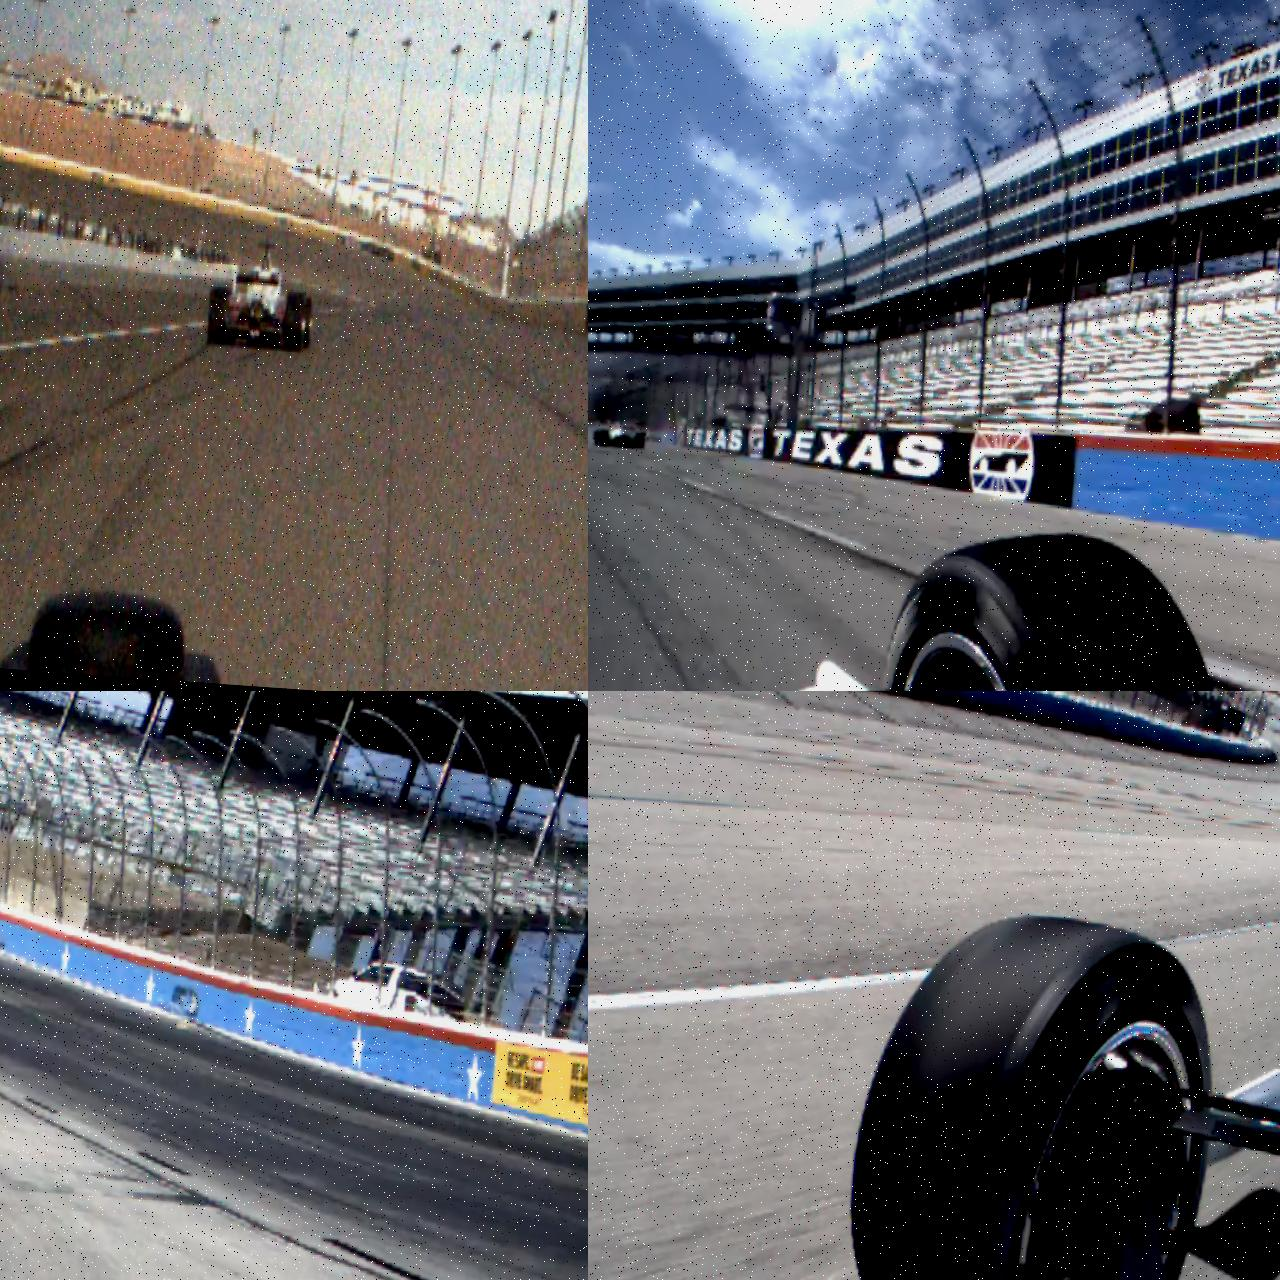AV: (206, 239, 318, 354), (592, 417, 646, 450)
Wheel: (836, 904, 1226, 1280), (857, 519, 1251, 692), (207, 287, 232, 347), (282, 292, 307, 352), (298, 297, 314, 348), (599, 429, 610, 448), (634, 433, 645, 449)
